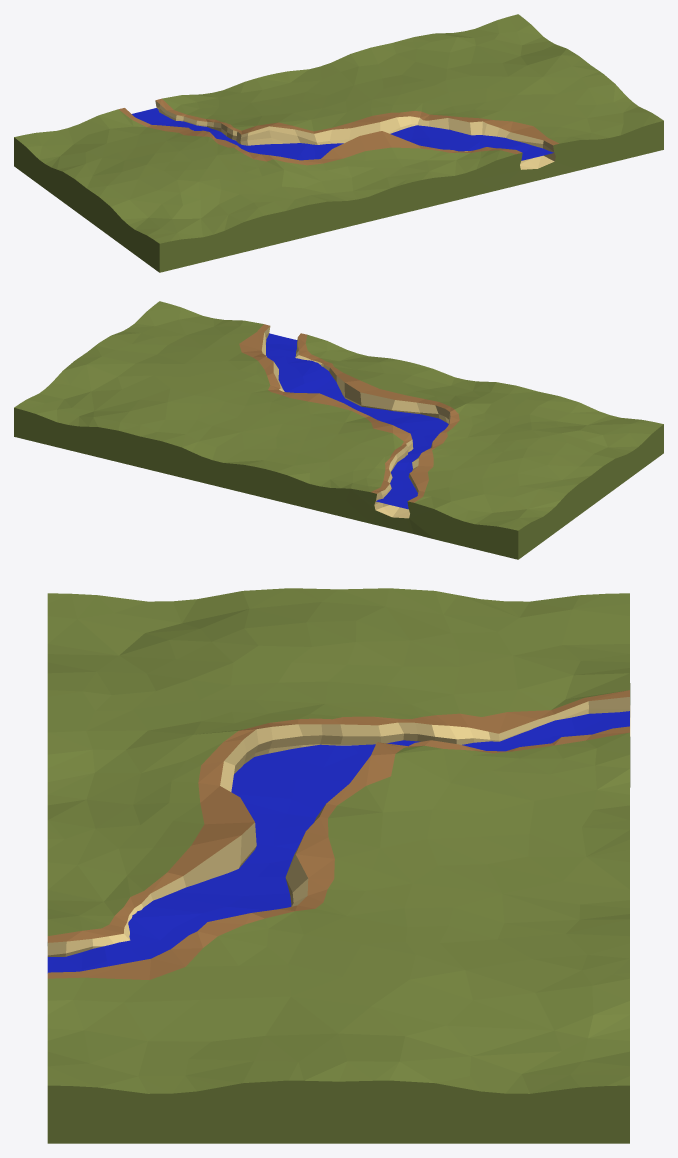
The model's file is Terrian_River_STurn_Flat-03.fbx.
The picture shows the model from 3 angles, top to bottom: view 1: azimuth 30°, elevation 25°; view 2: azimuth 150°, elevation 25°; view 3: azimuth 270°, elevation 25°; orthographic projection. The views are drawn at different scales.
Visible parts, largest first — view 1: Terrian_River_STurn_Flat-03; view 2: Terrian_River_STurn_Flat-03; view 3: Terrian_River_STurn_Flat-03.
Boxes of the visible parts, <box> form: Terrian_River_STurn_Flat-03: <box>14,14,663,272</box>; Terrian_River_STurn_Flat-03: <box>14,301,663,559</box>; Terrian_River_STurn_Flat-03: <box>47,588,630,1143</box>.
Size of the model in its own units: 7200 by 558 by 3601.
